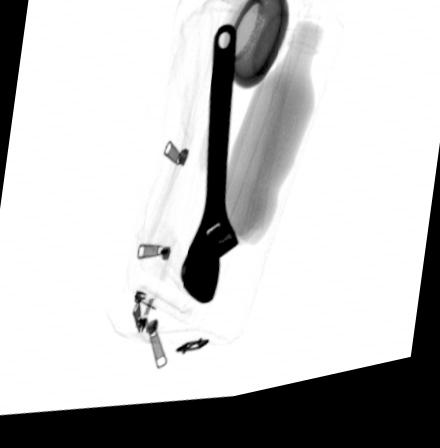Wrench: (179, 32, 239, 315)
